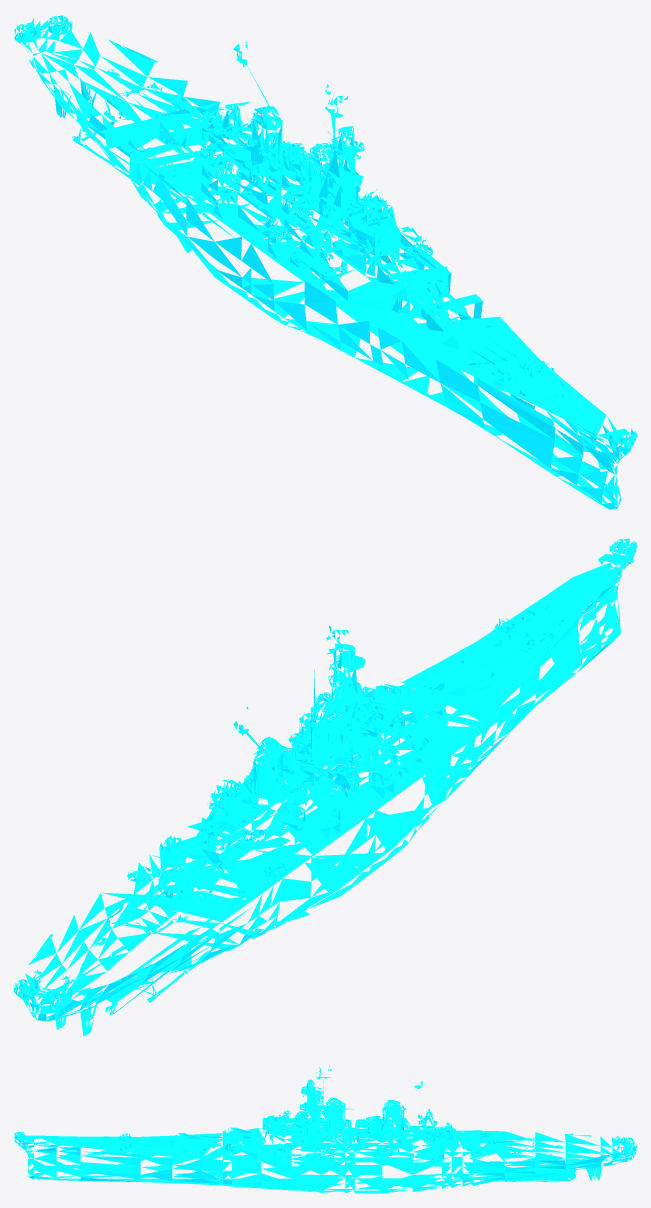
Rendered from Missouri.glb.
3 views of the same model, one above another, from view 1: azimuth 30°, elevation 25°; view 2: azimuth 150°, elevation 25°; view 3: azimuth 270°, elevation 25° (orthographic). The views are drawn at different scales.
Size of the model in its own units: 2.2 by 3.62 by 18.02.
